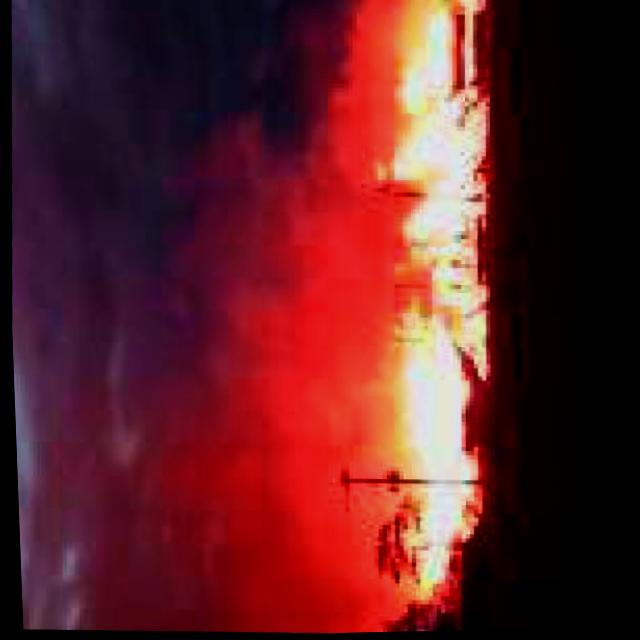smoke: (143, 0, 416, 638)
